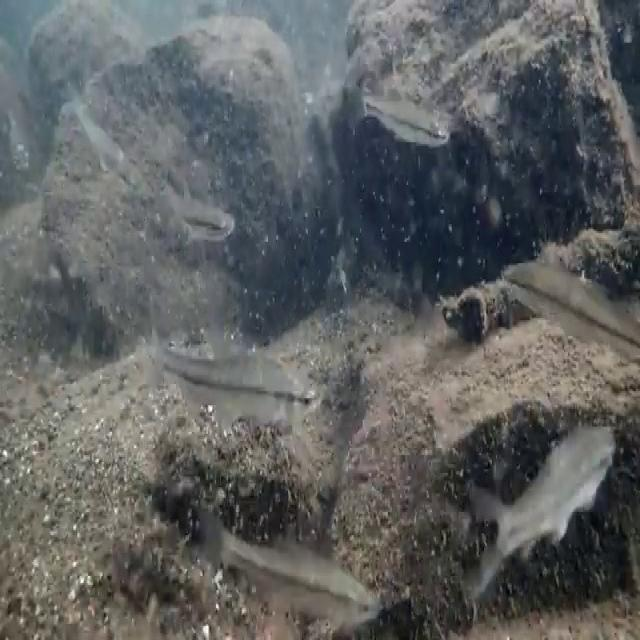Cakil Baligi: (471, 412, 613, 598), (202, 501, 380, 631), (155, 331, 321, 434), (71, 81, 134, 179), (362, 80, 446, 153), (168, 183, 239, 251)
